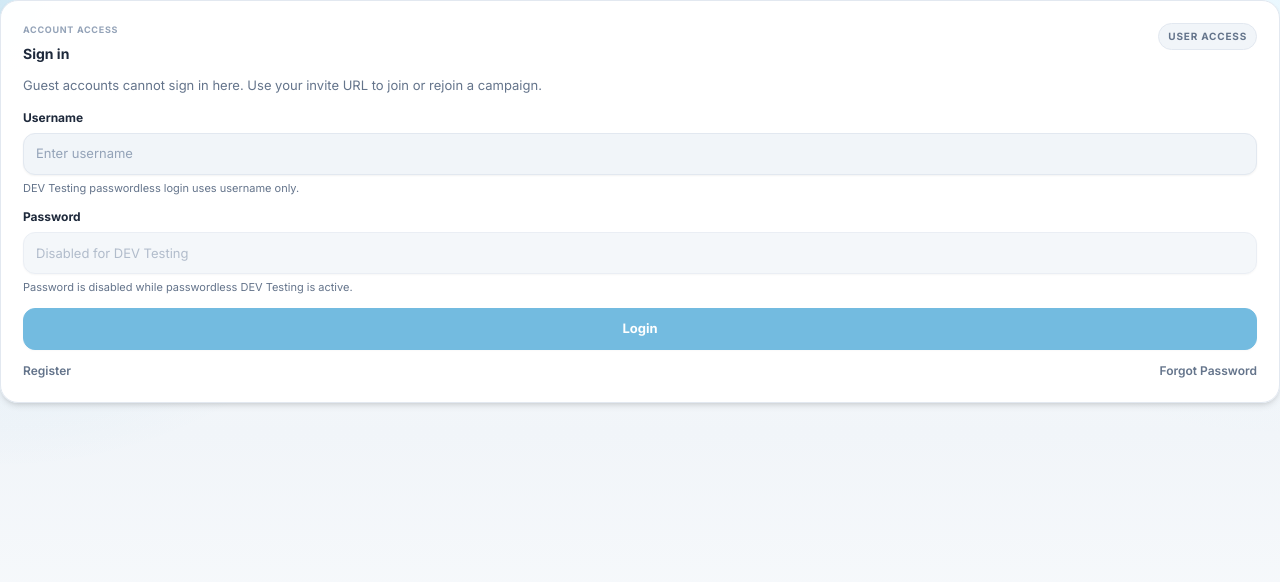
Test case: LoginForm › disables password field during DEV smoke test mode
The width and height of the screenshot is (1280, 582).
Check: the password field labelled "Password" is disabled, box [23,232,1257,274]
Type "devtester" into the field labelled "Username" at (640, 154), box [23,133,1257,175]
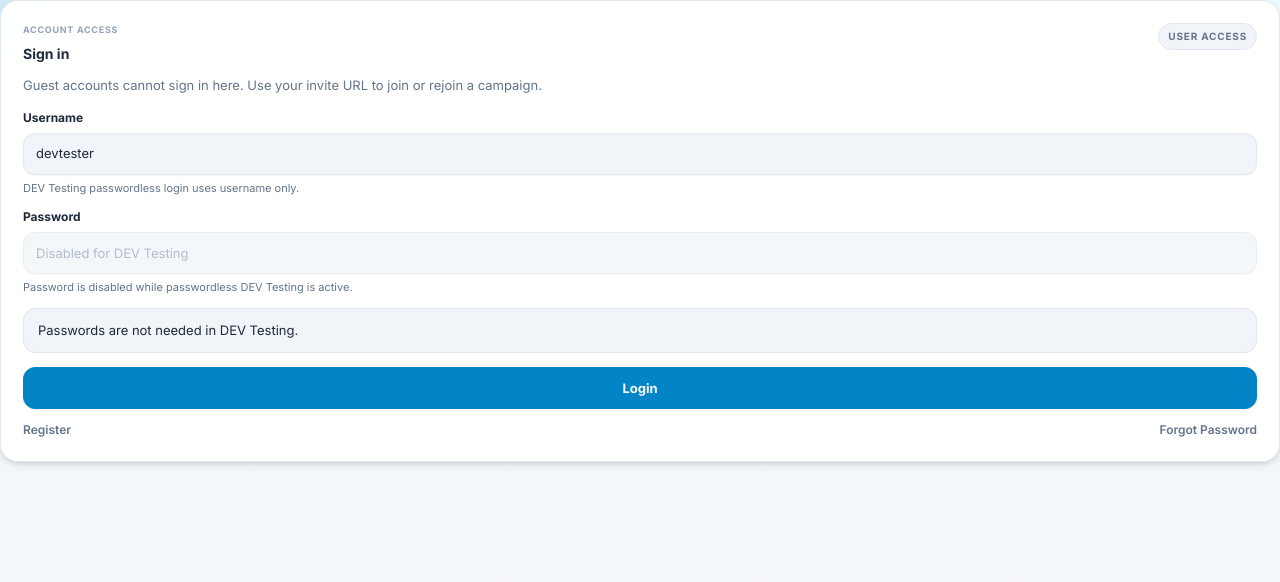
Check: the text "Passwords are not needed in DEV Testing." is shown, box [23,308,1257,353]
